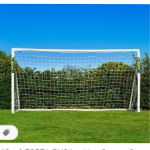goals: (9, 45, 142, 114)
